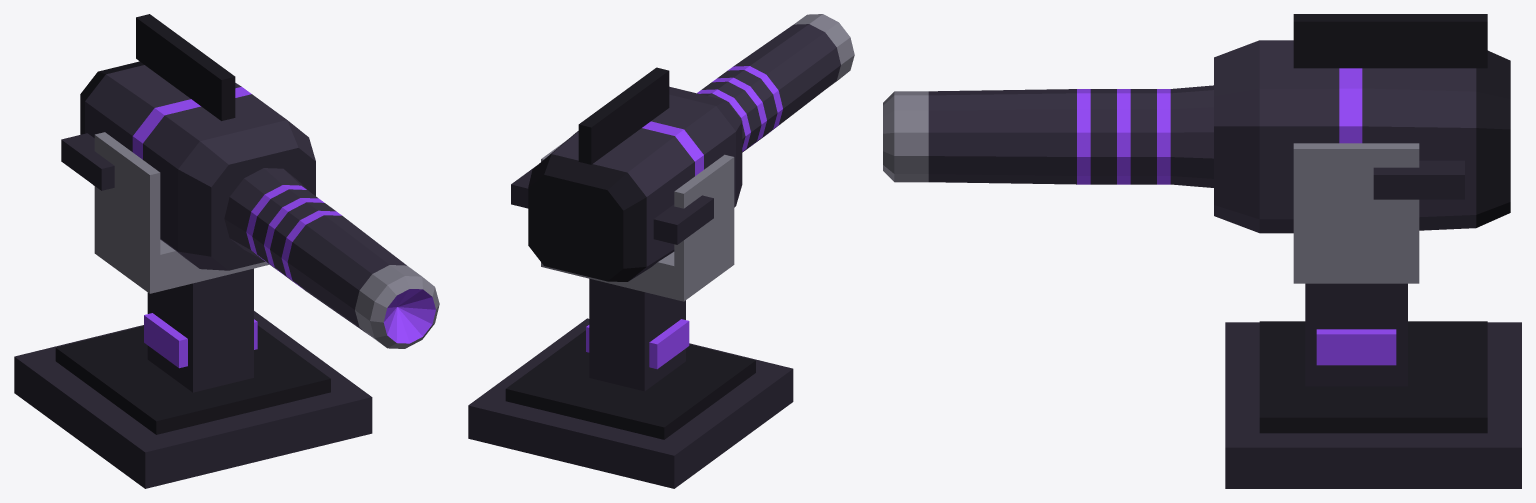
Rendered from beam_emitter.fbx.
3 views of the same model, side by side, from view 1: azimuth 30°, elevation 25°; view 2: azimuth 150°, elevation 25°; view 3: azimuth 270°, elevation 25° (orthographic). The views are drawn at different scales.
Visible parts, largest first — view 1: beam_emitter; view 2: beam_emitter; view 3: beam_emitter.
Part boxes in pixels (x1=…): beam_emitter: x1=14, y1=14, x2=439, y2=488; beam_emitter: x1=468, y1=14, x2=854, y2=488; beam_emitter: x1=883, y1=14, x2=1521, y2=488.
Bounding box in the file's own units: 0.26 × 0.395 × 0.56.
